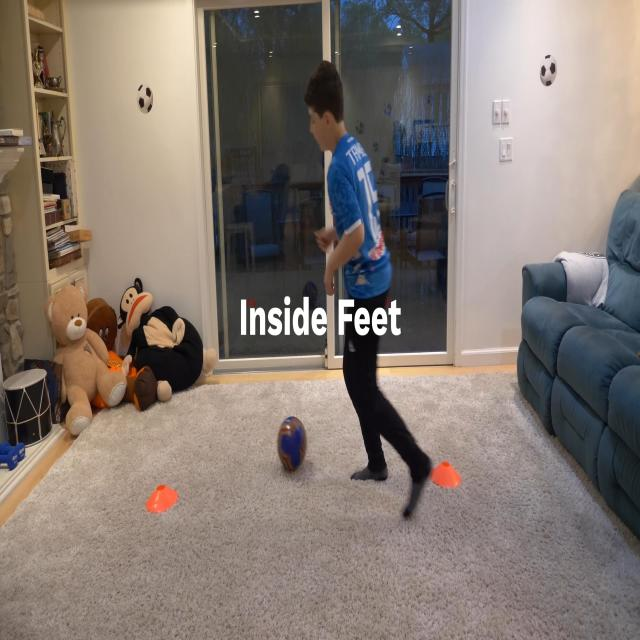Soccer Ball: (277, 416, 308, 475)
